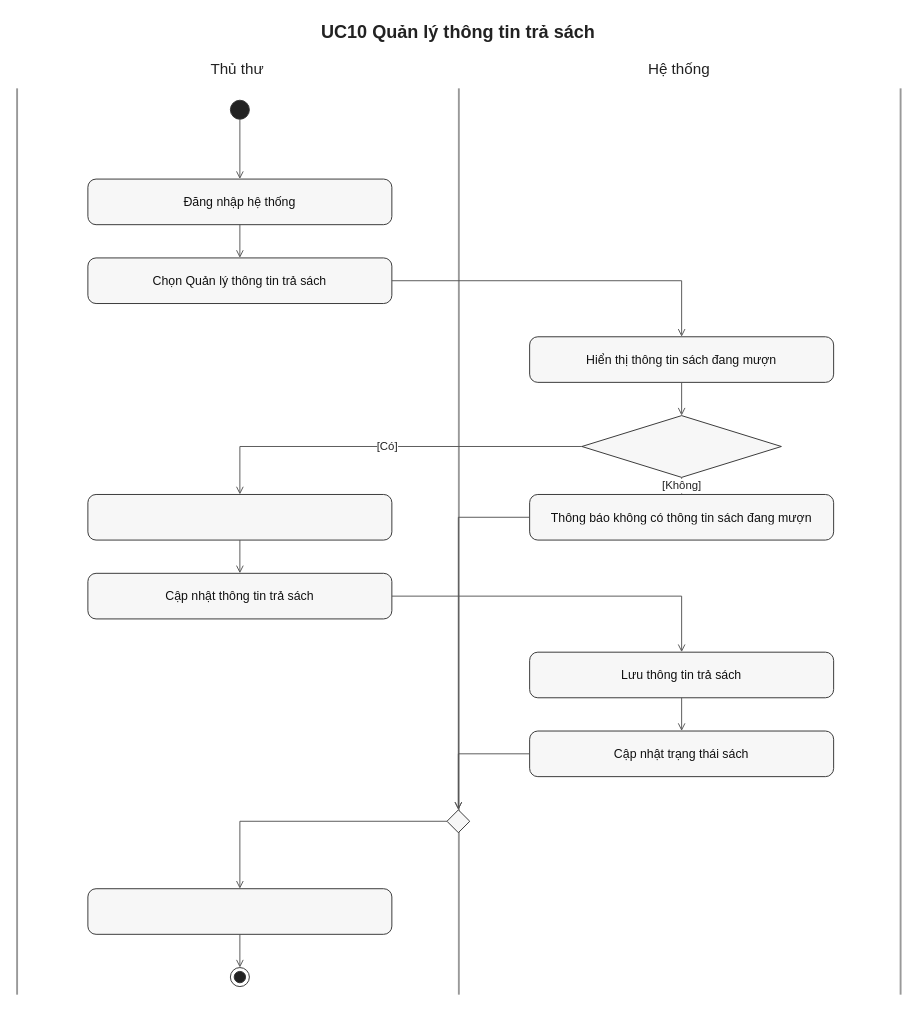
Some shapes in this 918 by 1011 pixel diagram are drawn without their labels. The shapes that lost their labels are listed below. From the top down, each one's box as (x1, y1, x2, y2) in pixels, then its label:
(581, 415, 781, 477): Có thông tin?
(87, 494, 392, 540): Chọn thông tin trả sách
(87, 888, 392, 934): Kết thúc quản lý
